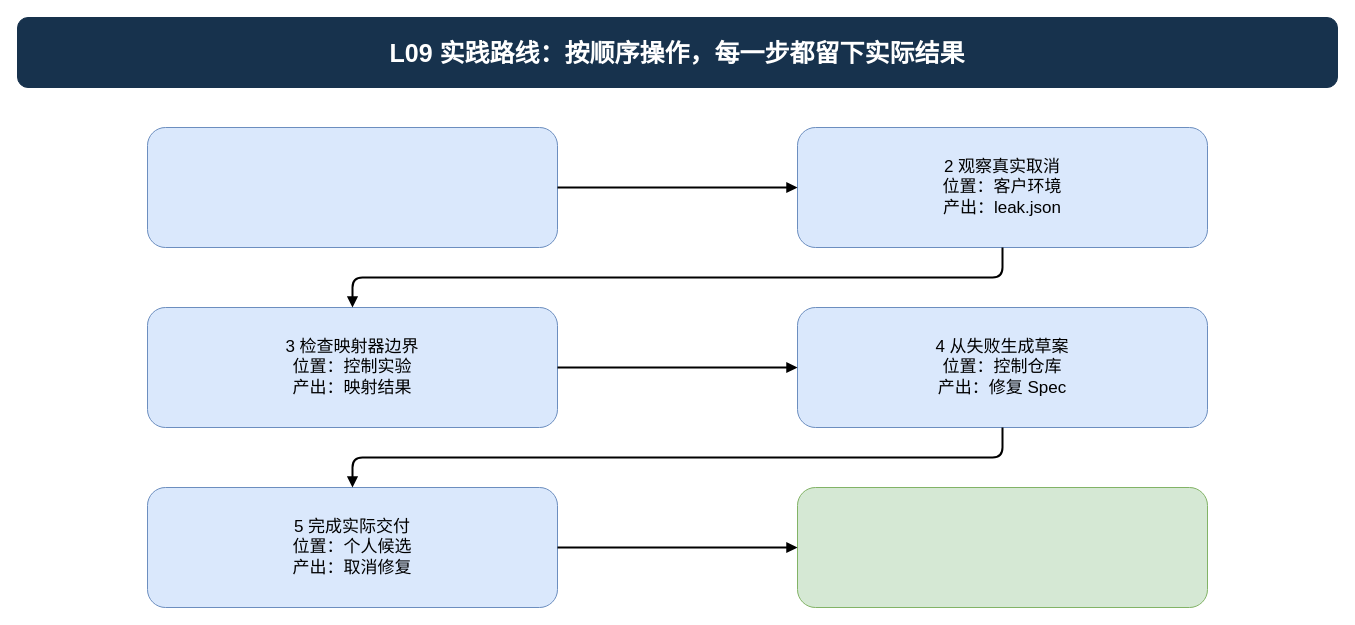
Some shapes in this 1355 by 625 pixel diagram are drawn without their labels. Each missing label, with the centre of its shape:
"1 确认位置与起点 位置：控制仓库 产出：首次判断" goes at (x=352, y=187).
"6 同伴反证并接受 位置：复验者 产出：最终决定" goes at (x=1002, y=547).
